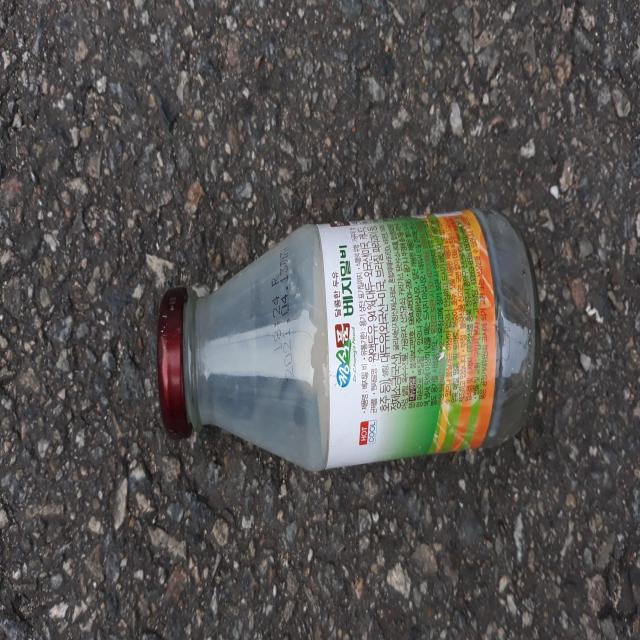glass: (157, 209, 540, 470)
